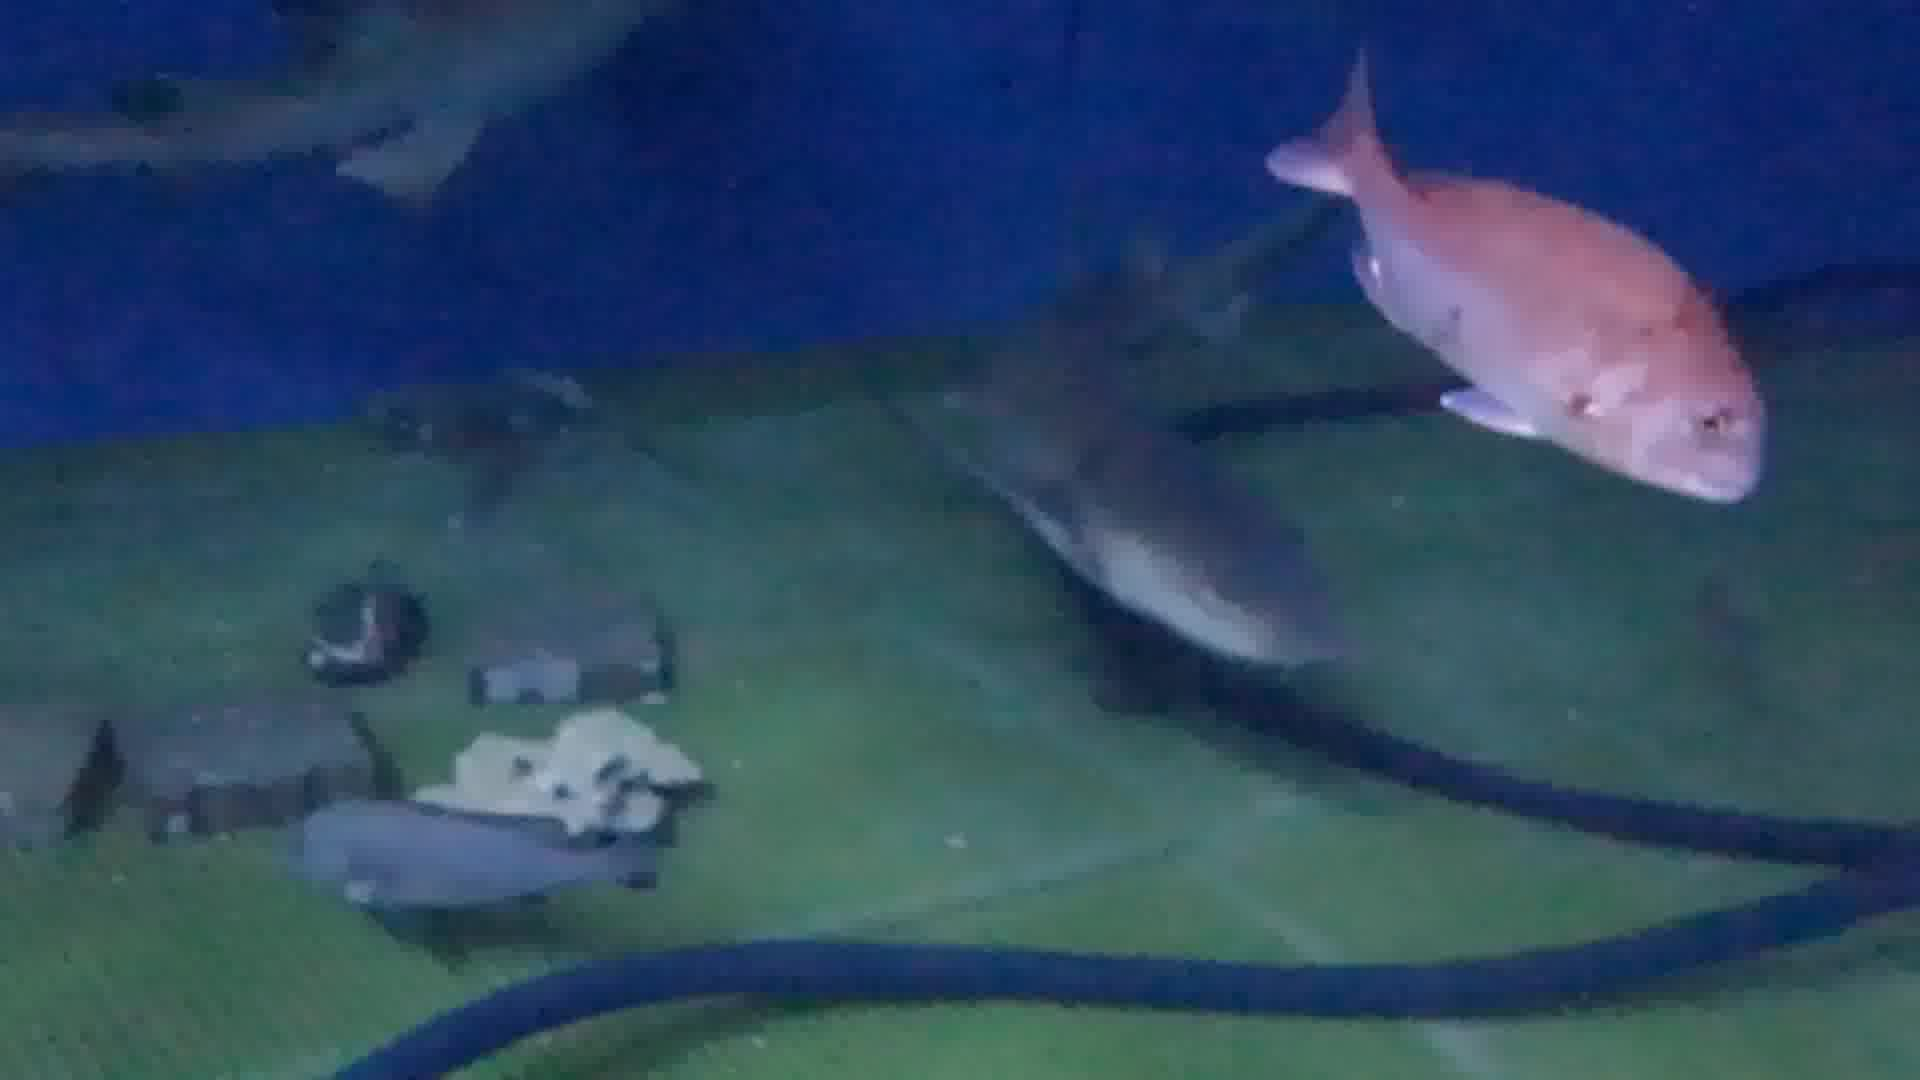Nebrius ferrugineus: (913, 187, 1352, 671)
